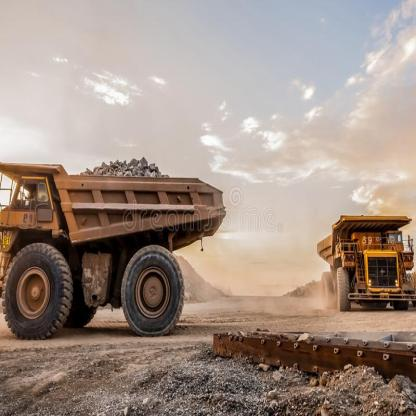dump_truck: (4, 142, 230, 353), (310, 186, 415, 326)
